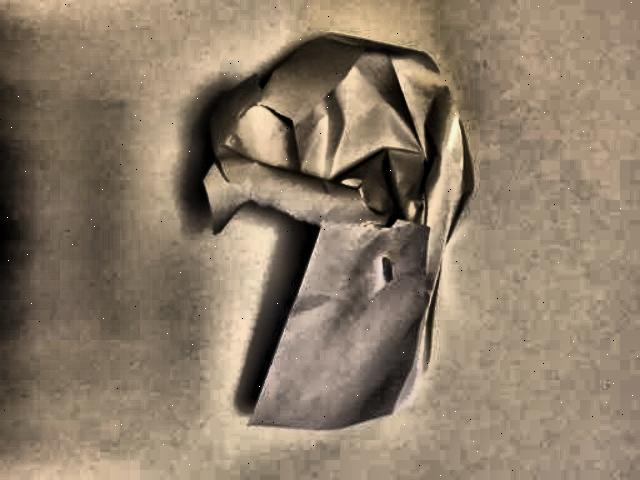Paper: (173, 27, 512, 434)
